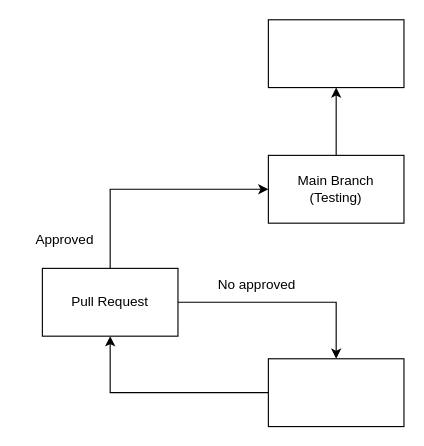
The diagram is 424 pixels wide and 446 high, and some of its shapes have lost their labels. Each missing label, with the centre of its shape:
"Master Branch (Deployment)" belongs at point 335,53.
"Other Branch" belongs at point 335,392.
